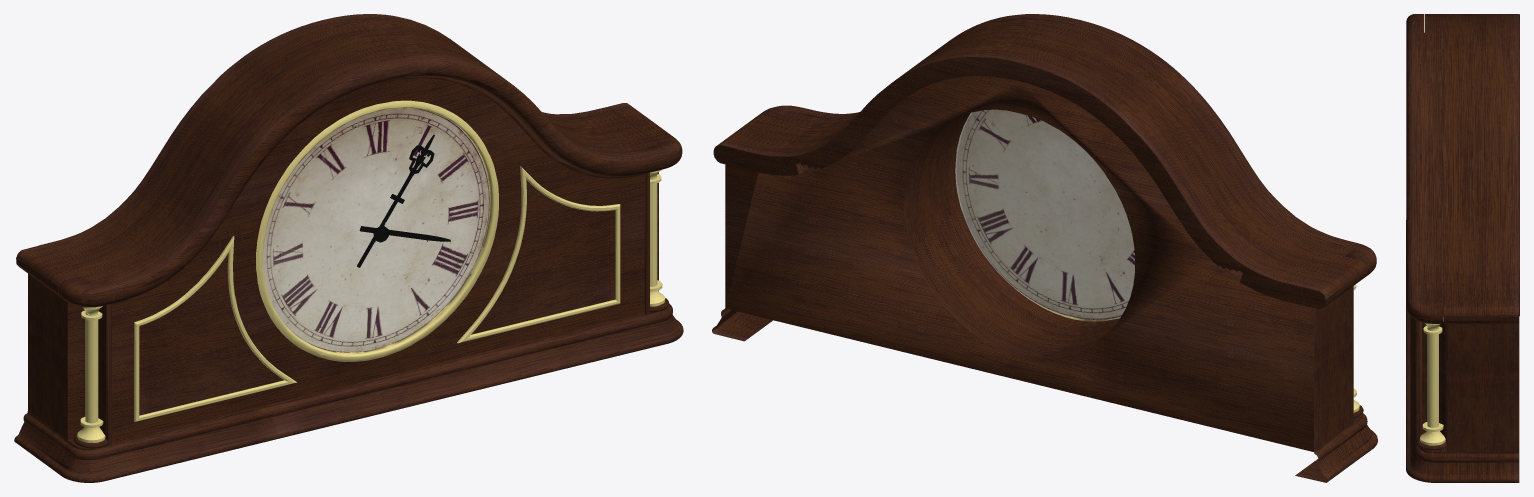
The model's file is Clock 3.fbx.
3 views of the same model, side by side, from view 1: azimuth 30°, elevation 25°; view 2: azimuth 150°, elevation 25°; view 3: azimuth 270°, elevation 25° (orthographic). The views are drawn at different scales.
Parts seen in each view (by area): view 1: clock 3, minutes; view 2: clock 3; view 3: clock 3.
Part boxes in pixels (box(x1,y1,x2,y2)): clock 3: box(14, 14, 683, 482); minutes: box(357, 134, 434, 267); clock 3: box(712, 14, 1377, 482); clock 3: box(1406, 14, 1519, 482).
Bounding box in the file's own units: 45.94 × 24.68 × 8.12.
Materials: 4 (2 with a texture image).
